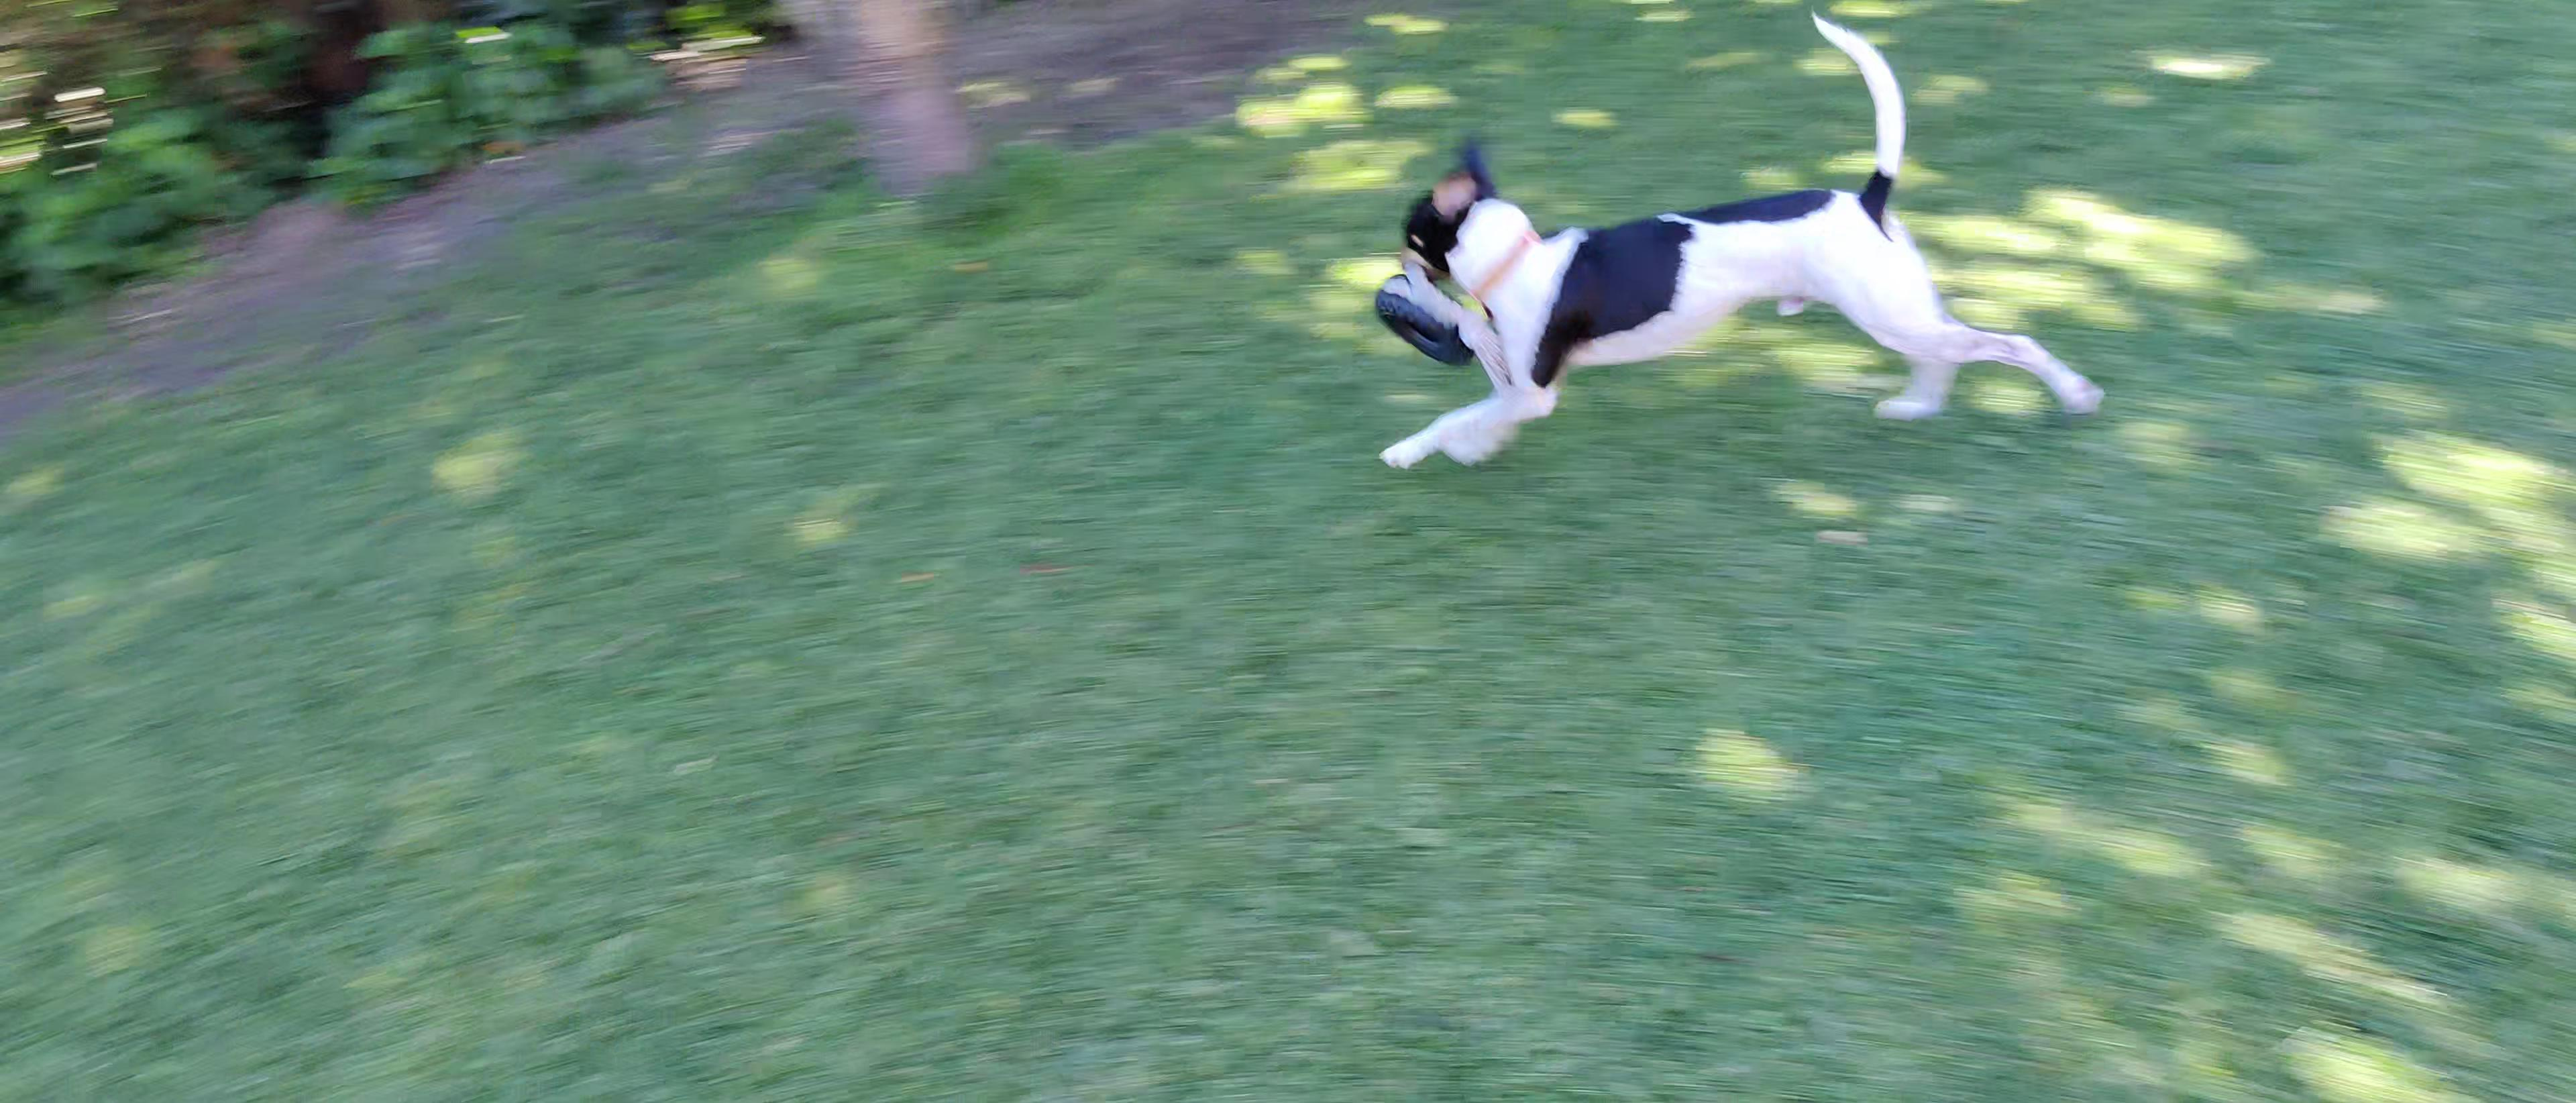Dog: (1354, 0, 2109, 493)
